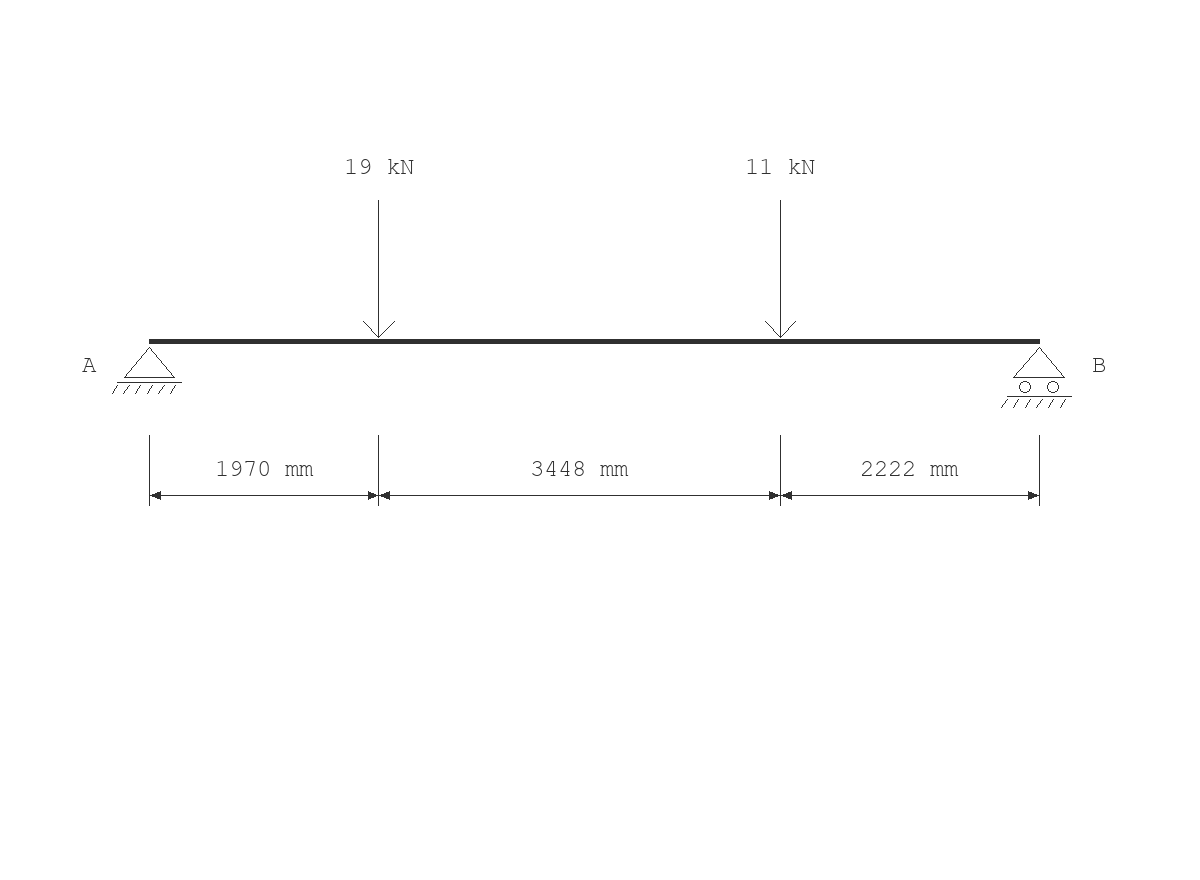pin_support: (112, 347, 182, 394)
point_load: (363, 200, 395, 338), (765, 200, 796, 338)
roller_support: (1001, 347, 1072, 408)
